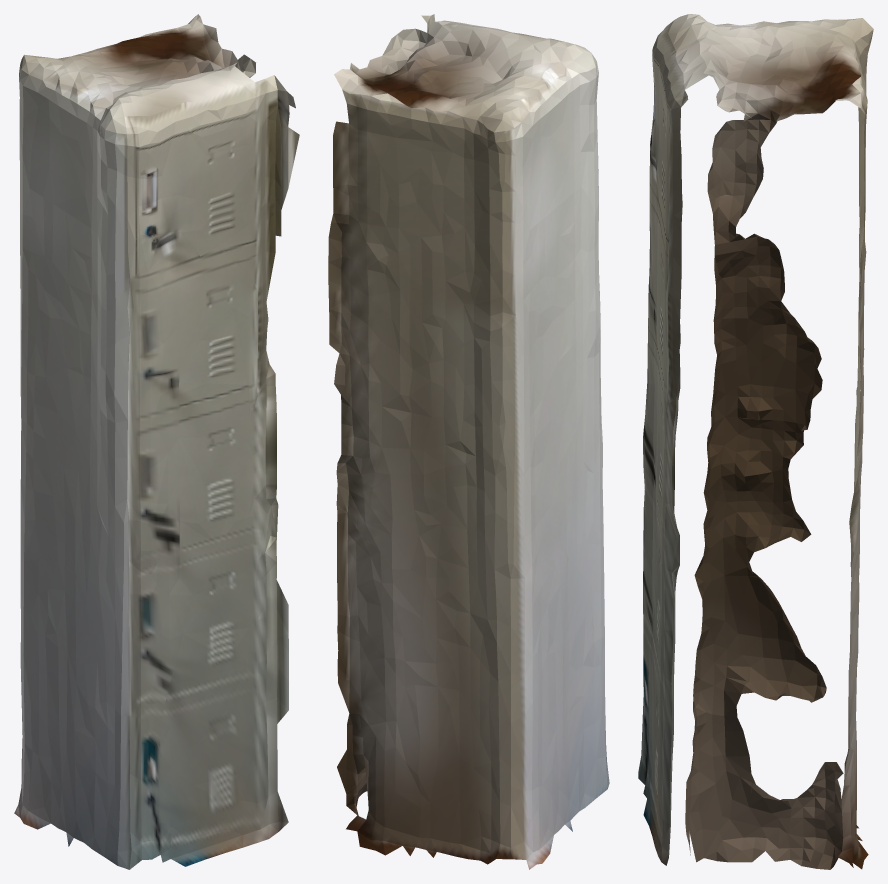
The model's file is roker-red.glb.
3 views of the same model, side by side, from view 1: azimuth 30°, elevation 25°; view 2: azimuth 150°, elevation 25°; view 3: azimuth 270°, elevation 25° (orthographic). The views are drawn at different scales.
Visible parts, largest first — view 1: Mesh_0.001; view 2: Mesh_0.001; view 3: Mesh_0.001.
Part boxes in pixels (x1=…): Mesh_0.001: x1=14, y1=14, x2=299, y2=869; Mesh_0.001: x1=328, y1=14, x2=609, y2=869; Mesh_0.001: x1=638, y1=14, x2=873, y2=869.
Size of the model in its own units: 0.5153 by 1.92 by 0.5141.
1 material, 1 textured.
